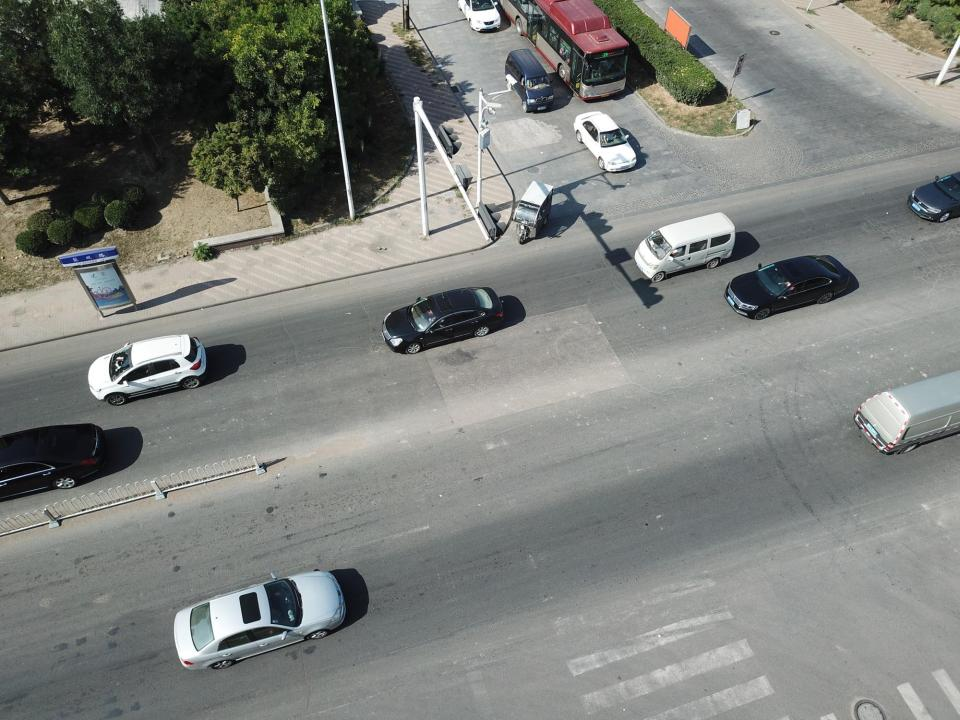car: (173, 568, 347, 672), (497, 0, 629, 100), (1, 422, 106, 508), (88, 332, 208, 406), (379, 286, 504, 355), (724, 253, 851, 320), (573, 110, 637, 172), (906, 168, 960, 222), (511, 179, 554, 244), (456, 0, 501, 32)
van: (852, 366, 959, 456), (634, 211, 735, 283), (504, 48, 554, 113)
